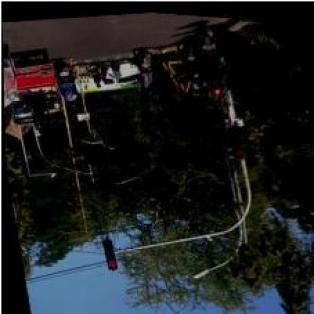Semaforo Rojo: (98, 236, 116, 270), (228, 122, 245, 155)
